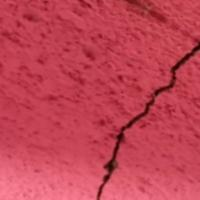crack: (55, 28, 199, 199)
